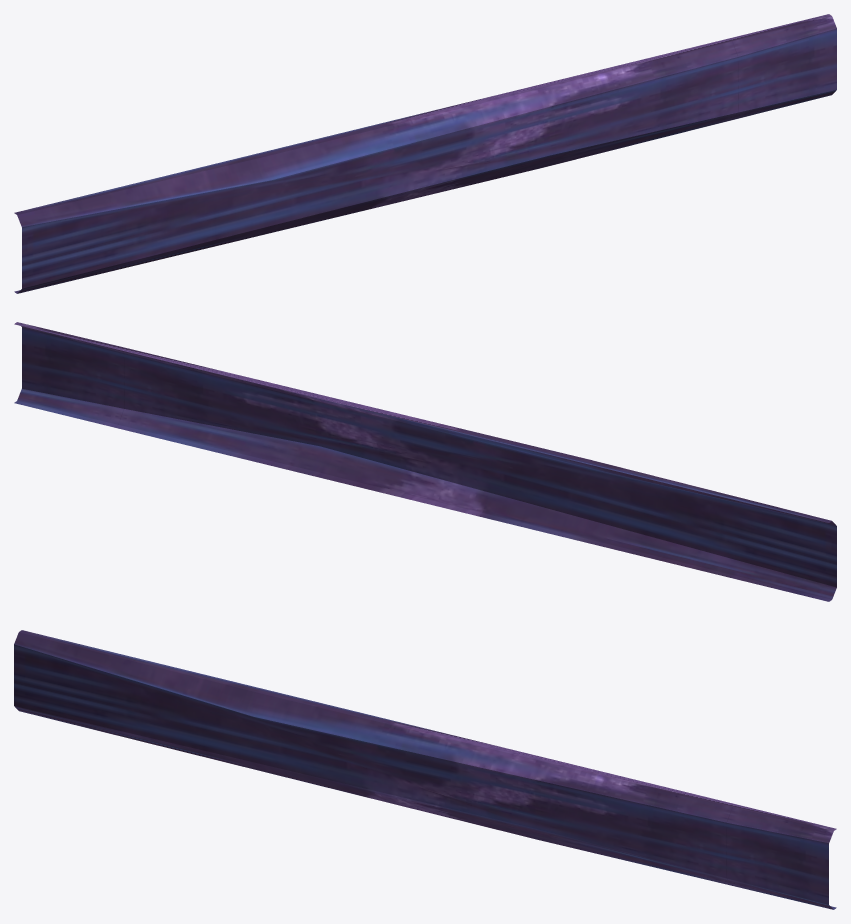
File: pm-temple-beam-01.glb
3 renders of one model, top to bottom at view 1: azimuth 30°, elevation 25°; view 2: azimuth 150°, elevation 25°; view 3: azimuth 330°, elevation 25°, orthographic.
Parts seen in each view (by area): view 1: TempleBeam01_Art; view 2: TempleBeam01_Art; view 3: TempleBeam01_Art.
Boxes of the visible parts, left/top/right/bottom form: TempleBeam01_Art: left=14, top=14, right=836, bottom=293; TempleBeam01_Art: left=14, top=322, right=836, bottom=601; TempleBeam01_Art: left=14, top=630, right=836, bottom=909.
Bounding box in the file's own units: 8 × 0.7393 × 0.2266.
Materials: 1 (1 with a texture image).
